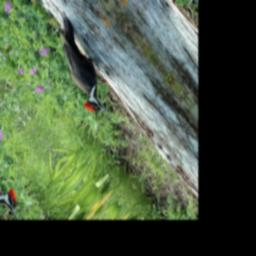Woodpecker: (34, 12, 127, 125)
